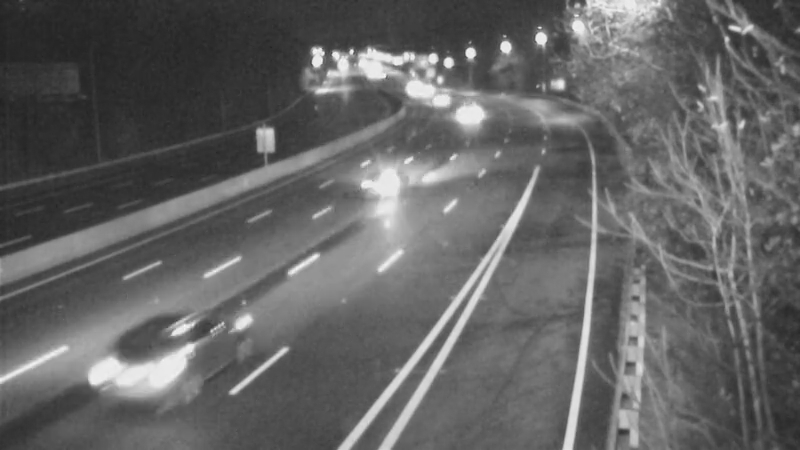vehicle: (84, 311, 194, 421), (351, 142, 431, 222), (379, 62, 429, 112), (404, 66, 454, 116), (419, 71, 469, 121), (442, 91, 492, 141)
